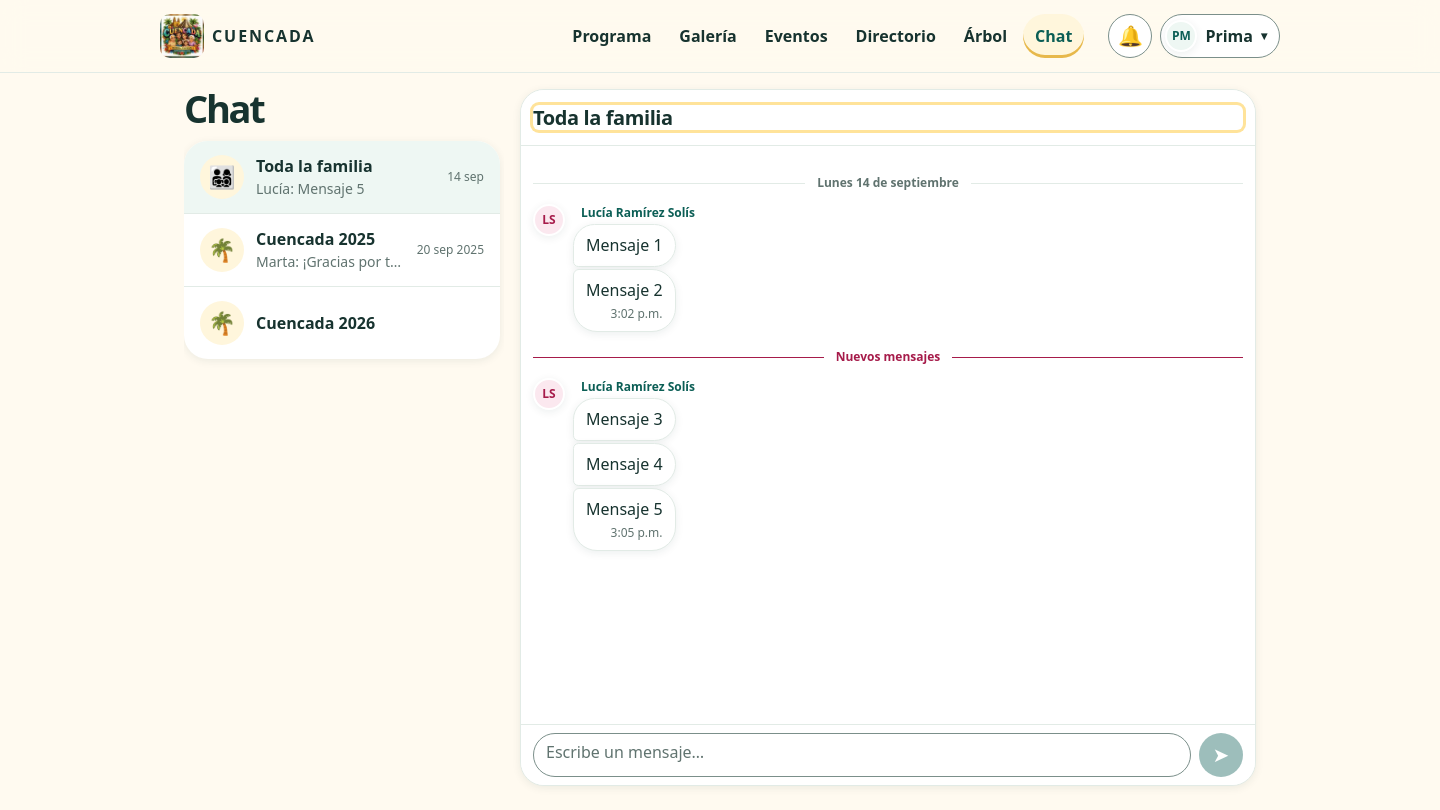
it: ChatPage › sends optimistically, dedupes the echo, and retries a failed message with the same id
Expected: the text "Mensaje 5" is shown, [586,498,662,520]
In the text box labelled "mensaje": (862, 755) [533,733,1191,777], type "  Hola familia  "
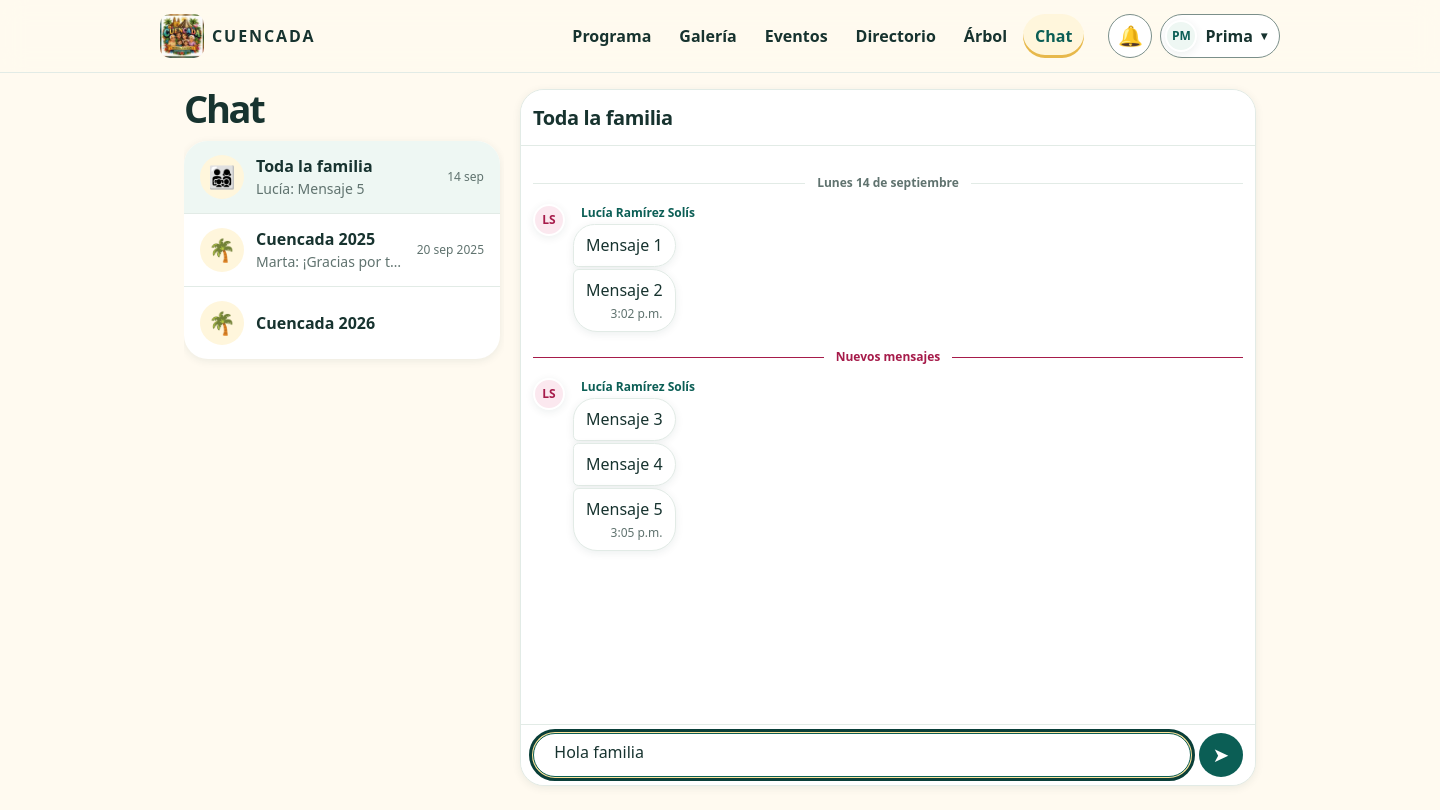
Click the button named "Enviar": (1221, 755) [1199,733,1243,777]
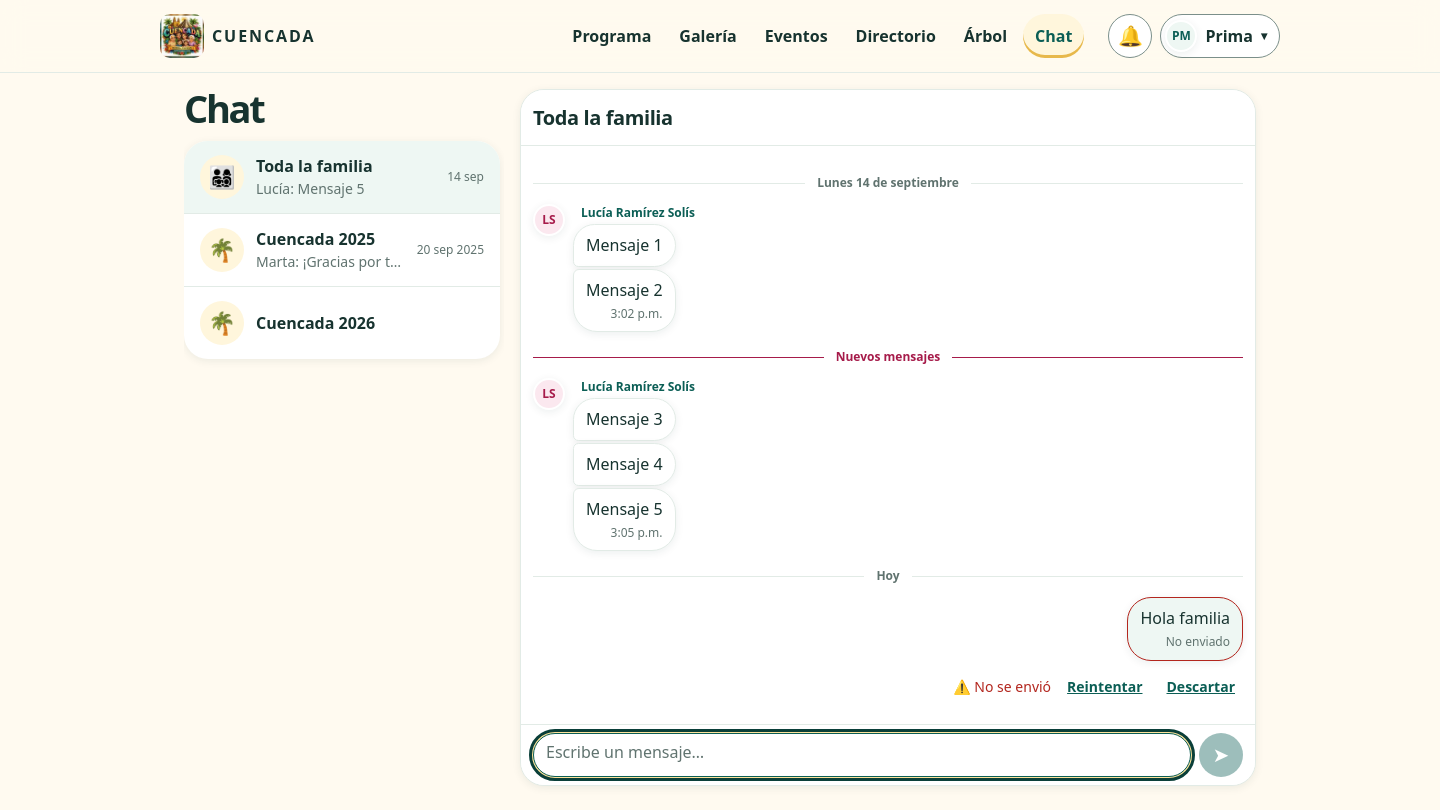
Expected: the text "Hola familia" is shown, [1140,607,1230,629]
Expected: the text "Enviando…" is shown, [1166,633,1230,650]
Expected: the text box labelled "mensaje" is empty, [533,733,1191,777]
Click the button "Reintentar": (1105, 687) [1059,665,1150,709]
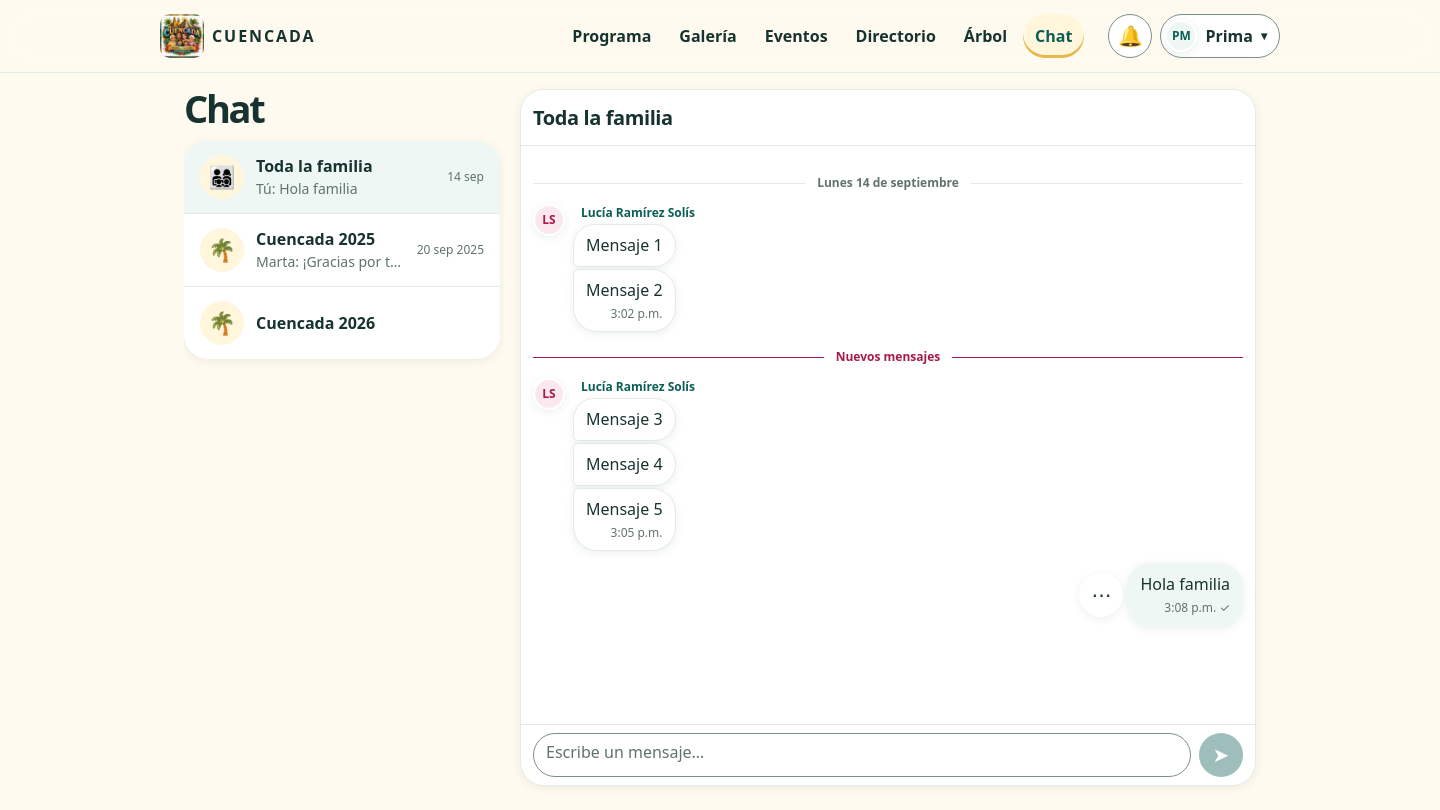
Expected: the text "Hola familia" is shown once, [1140,573,1230,595]
Expected: the text "⚠️ No se envió" is gone
